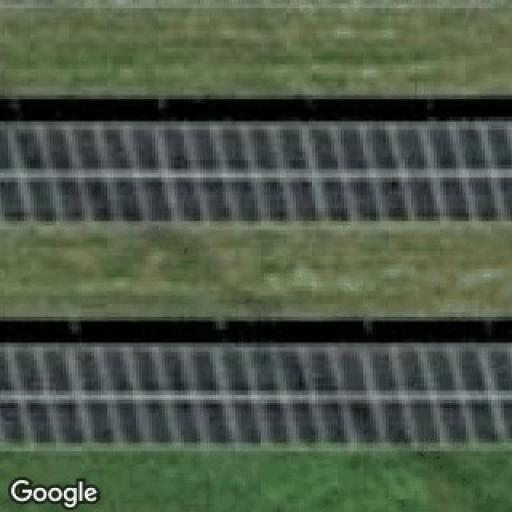solar-panel: (0, 120, 512, 226), (0, 347, 512, 450)
